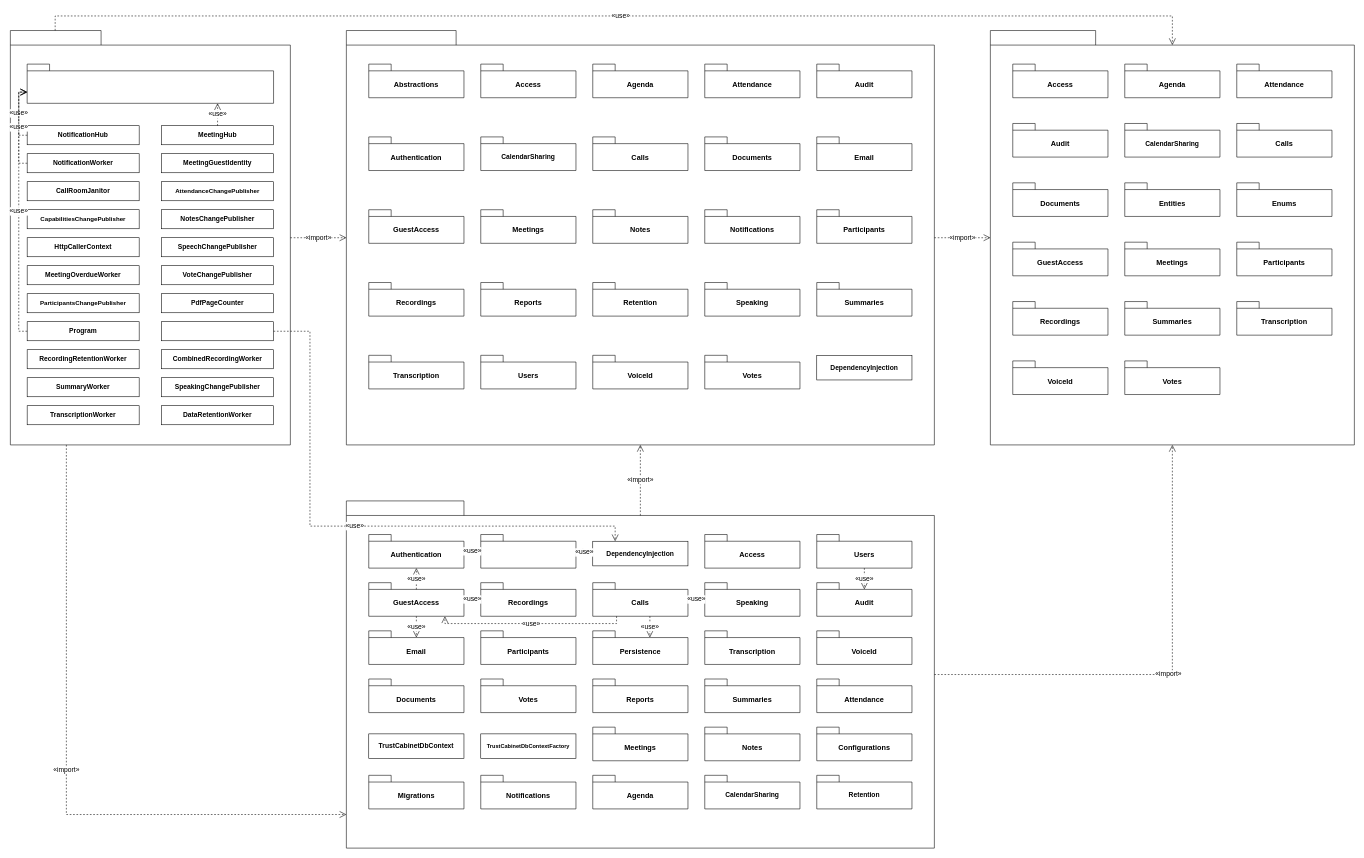
The diagram is 1364 pixels wide and 858 high, and some of its shapes have lost their labels. The box of each missing label's shape, as (x1, y1, x2, y2) in pixels:
DatabaseMigrationCommand: (161, 321, 274, 341)
Endpoints: (27, 64, 274, 103)
Seed: (480, 534, 576, 568)
TrustCabinet.Application: (346, 30, 934, 445)
TrustCabinet.Domain: (990, 30, 1354, 445)
TrustCabinet.Infrastructure: (346, 500, 934, 848)
TrustCabinet.Web: (10, 30, 290, 445)
